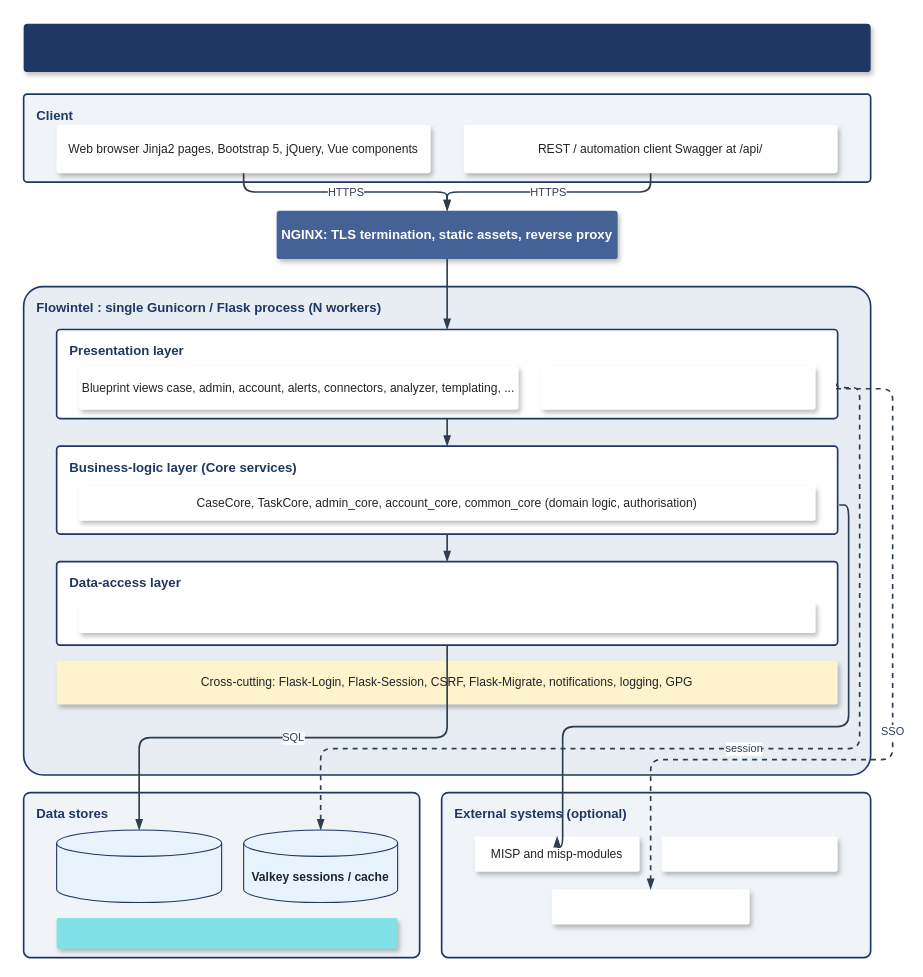
The diagram is 923 pixels wide and 977 high, and some of its shapes have lost their labels. The shapes that lost their labels are listed below. From the top down, each one's centre as x and y in pixels, then its label:
the point at 448,49: Flowintel System Architecture (layered modular monolith)
the point at 679,389: REST API (flask-restx)
the point at 448,618: SQLAlchemy models (app/db_class/db.py)
the point at 139,866: PostgreSQL system of record
the point at 750,855: Matrix (matrix-nio)
the point at 651,908: Keycloak, Entra ID (MSAL)
the point at 228,934: Filesystem uploads/, logs/, template repos
